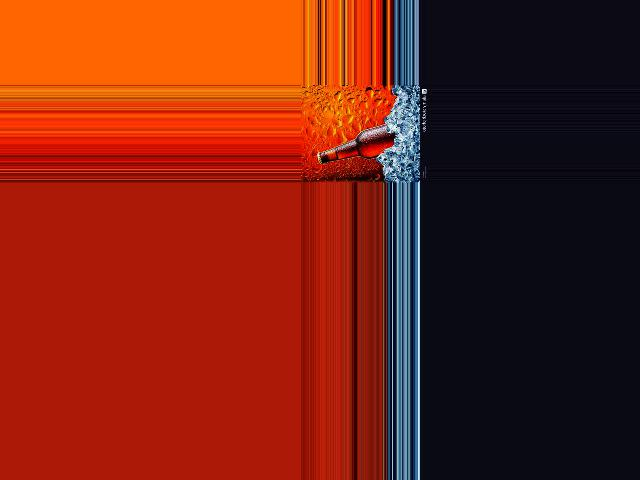beer: (317, 125, 396, 167)
